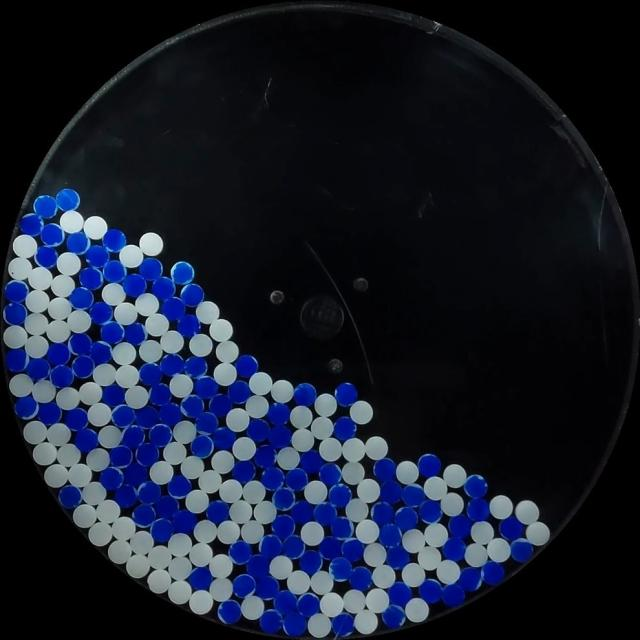pmmma-azul: (217, 599, 242, 625), (387, 581, 412, 607), (258, 609, 284, 634), (246, 554, 271, 580), (114, 483, 140, 508), (74, 427, 99, 452), (171, 509, 196, 534), (158, 401, 183, 426), (348, 566, 373, 591), (333, 416, 358, 441), (188, 566, 213, 591), (442, 536, 467, 561), (457, 566, 482, 591), (123, 462, 148, 487), (282, 611, 307, 636), (194, 375, 220, 399), (466, 496, 490, 522), (462, 474, 488, 498), (274, 589, 298, 615), (379, 478, 402, 505), (136, 480, 161, 504), (111, 404, 136, 428), (208, 393, 233, 417), (100, 466, 124, 491), (5, 347, 29, 372), (14, 395, 38, 420), (211, 426, 236, 450), (480, 560, 504, 585), (37, 401, 62, 425), (65, 407, 89, 432), (260, 466, 284, 491), (232, 573, 256, 598), (401, 483, 425, 508), (66, 231, 91, 255), (180, 283, 205, 307), (55, 188, 80, 212), (441, 582, 466, 606), (290, 500, 315, 524), (122, 273, 147, 297), (4, 301, 28, 326), (418, 453, 442, 478), (268, 424, 292, 449), (85, 244, 110, 268), (447, 514, 472, 538), (151, 275, 175, 300), (418, 499, 442, 524), (318, 536, 343, 560), (328, 556, 352, 581), (256, 574, 280, 599), (18, 213, 44, 236), (379, 522, 402, 548), (181, 394, 205, 418), (109, 444, 133, 468), (206, 500, 230, 524), (136, 442, 160, 466), (171, 261, 195, 285), (228, 380, 252, 404), (40, 223, 64, 247), (167, 474, 191, 498), (194, 411, 218, 435), (190, 434, 214, 458), (162, 296, 186, 320), (50, 364, 74, 388), (26, 357, 50, 381), (58, 485, 82, 509), (71, 354, 95, 378), (300, 450, 324, 474), (103, 260, 127, 284), (139, 257, 163, 281), (284, 467, 308, 491), (234, 354, 258, 378), (272, 514, 296, 538), (266, 402, 290, 426), (138, 362, 162, 386), (69, 332, 93, 356), (313, 502, 337, 526), (394, 506, 418, 530), (150, 518, 174, 542), (299, 550, 323, 574), (259, 534, 283, 558), (132, 503, 156, 527), (334, 382, 358, 406), (121, 424, 145, 448), (498, 516, 522, 540), (149, 382, 173, 406), (34, 245, 58, 269), (79, 266, 103, 290), (382, 604, 406, 628), (102, 229, 127, 252), (149, 423, 172, 448), (297, 592, 320, 617), (319, 462, 342, 487), (4, 280, 29, 303), (100, 321, 125, 344), (385, 544, 408, 569), (373, 457, 396, 482), (272, 487, 296, 510), (102, 383, 125, 407), (419, 578, 442, 602), (247, 418, 271, 441), (70, 286, 94, 309), (341, 538, 364, 562), (47, 342, 70, 366), (231, 460, 255, 483), (282, 534, 305, 558), (89, 340, 112, 364), (328, 483, 351, 507), (124, 322, 147, 346), (509, 539, 533, 562), (229, 540, 252, 564), (293, 382, 316, 406), (34, 194, 57, 218), (329, 515, 353, 538), (89, 301, 113, 324), (331, 612, 354, 636), (159, 353, 184, 375), (177, 314, 200, 337), (184, 355, 208, 377), (372, 502, 394, 526), (255, 444, 277, 468), (136, 406, 158, 428), (156, 496, 178, 516)
